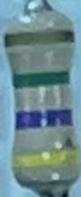Blue: (13, 108, 76, 131)
Green: (10, 68, 72, 88)
Side-Silver: (3, 29, 77, 49)
Yellow: (10, 147, 77, 168)
